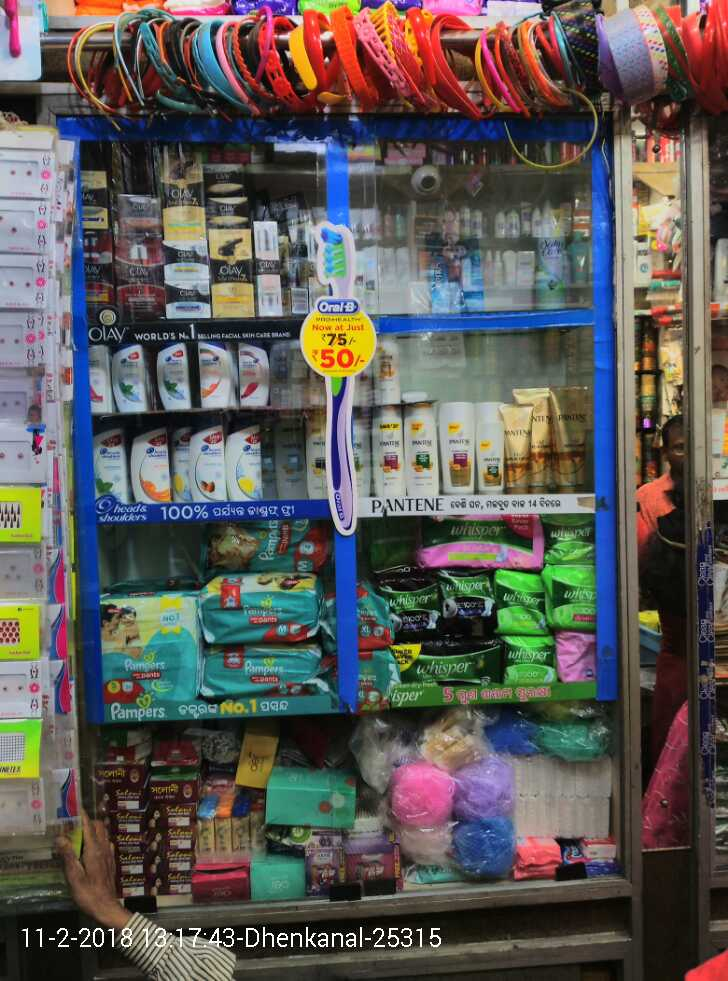venus: (431, 230, 480, 313)
